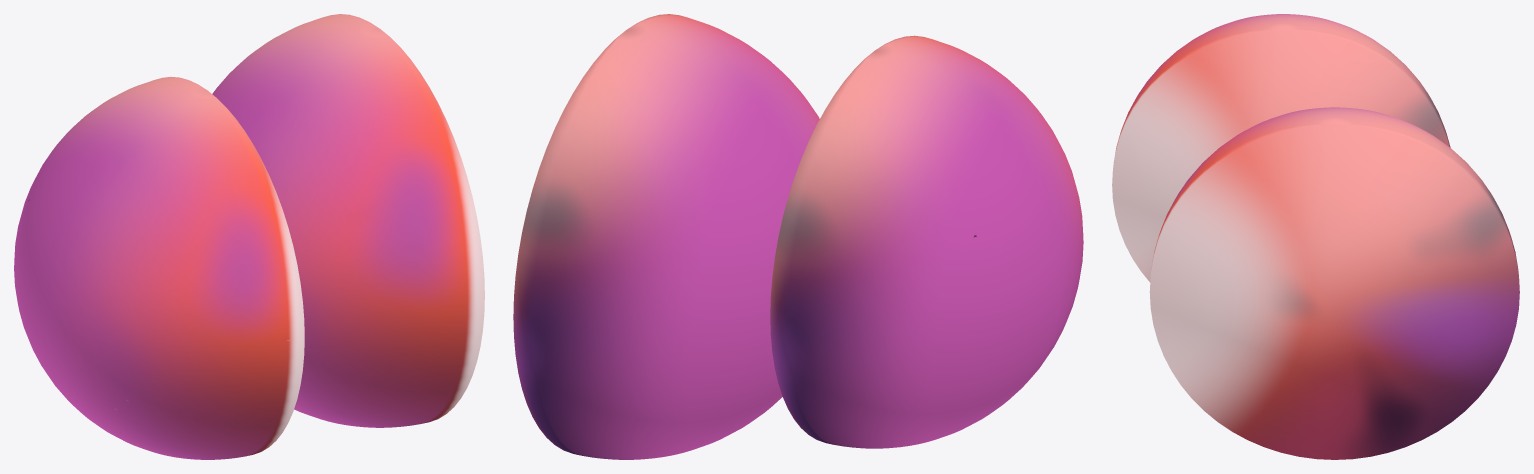
Rendered from coral_halves.glb.
3 renders of one model, left to right at view 1: azimuth 30°, elevation 25°; view 2: azimuth 150°, elevation 25°; view 3: azimuth 270°, elevation 25°, orthographic. The views are drawn at different scales.
Visible parts, largest first — view 1: Sphere.009; view 2: Sphere.009; view 3: Sphere.009.
Boxes of the visible parts, x1,y1,x2,y2 form: Sphere.009: (14,14,484,459); Sphere.009: (513,14,1083,459); Sphere.009: (1112,14,1519,459).
Bounding box in the file's own units: 2.2 × 2.21 × 2.38.
1 material, 1 textured.
